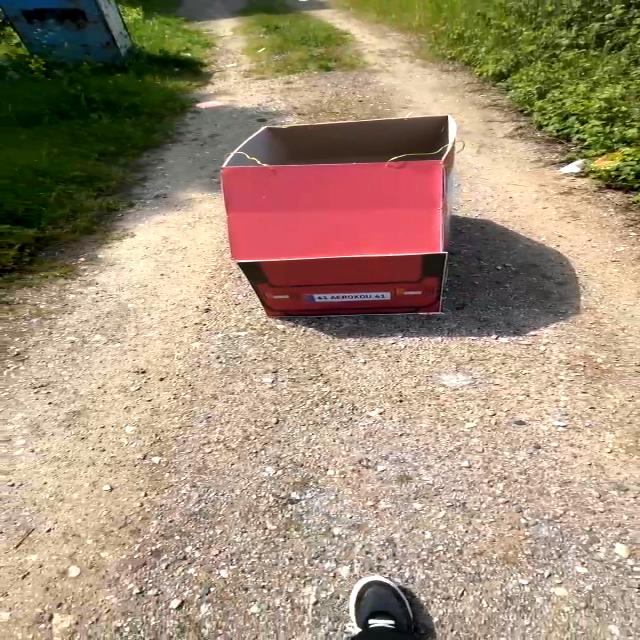red_car: (187, 104, 475, 338)
